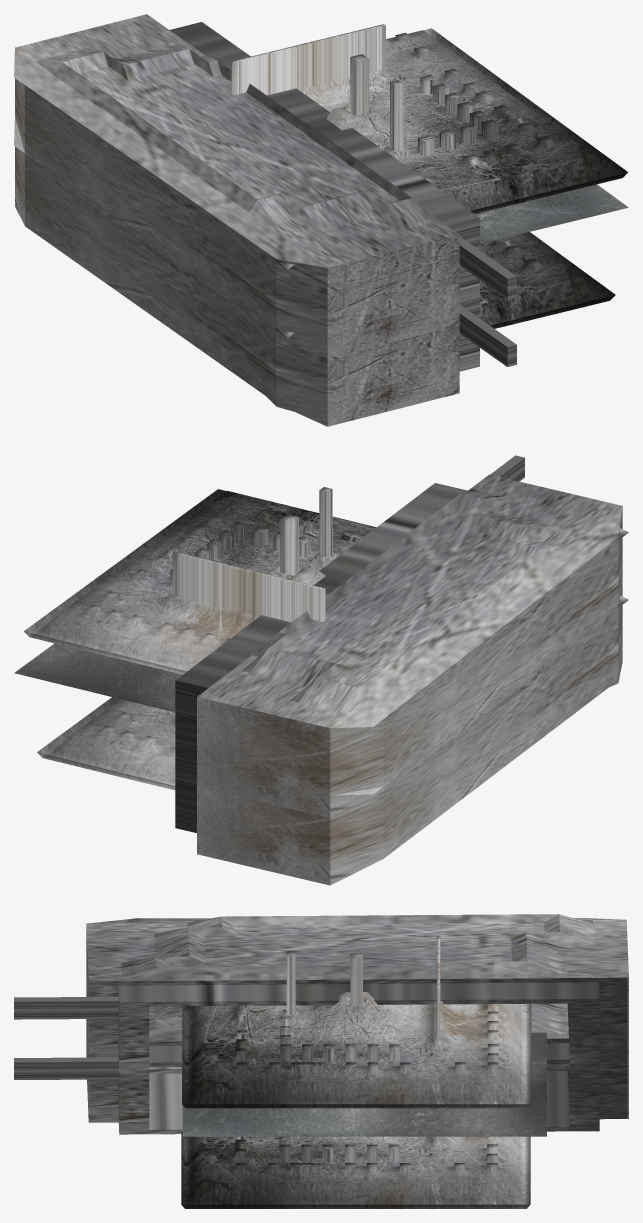
The model's file is pieza19.fbx.
3 renders of one model, top to bottom at view 1: azimuth 30°, elevation 25°; view 2: azimuth 150°, elevation 25°; view 3: azimuth 270°, elevation 25°, orthographic. The views are drawn at different scales.
Visible parts, largest first — view 1: Plane.021; view 2: Plane.021; view 3: Plane.021.
Boxes of the visible parts, x1,y1,x2,y2 form: Plane.021: (14, 14, 628, 426); Plane.021: (14, 455, 628, 885); Plane.021: (14, 914, 628, 1208).
Size of the model in its own units: 310 by 165 by 481.
5 materials, 5 textured.
